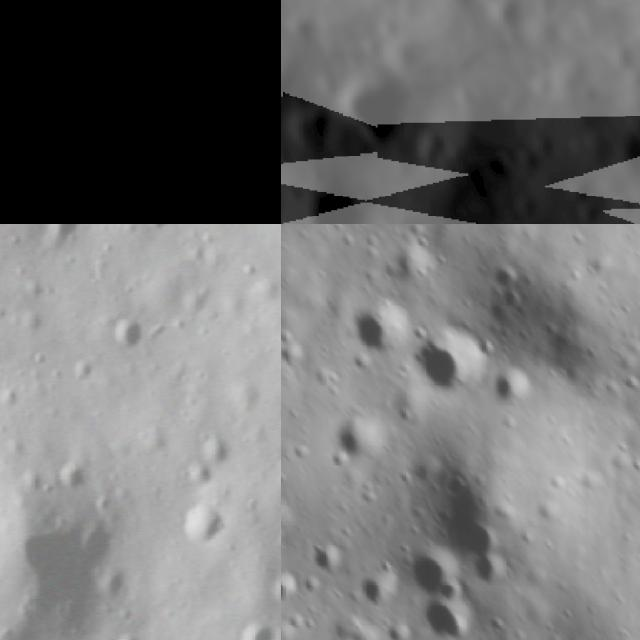crater: (0, 0, 281, 224), (0, 502, 146, 640), (424, 60, 550, 192), (324, 54, 430, 160), (412, 317, 483, 405), (284, 165, 378, 224), (281, 96, 344, 170), (169, 488, 233, 557), (345, 295, 414, 356), (23, 224, 97, 264), (385, 26, 436, 84), (395, 542, 453, 592), (411, 597, 477, 640), (47, 448, 98, 502), (281, 42, 310, 135), (99, 309, 152, 355), (407, 125, 454, 173), (486, 366, 536, 408), (334, 416, 376, 466), (482, 0, 533, 41), (284, 4, 329, 49), (521, 63, 565, 104), (505, 186, 547, 224), (232, 608, 281, 640), (602, 36, 640, 76), (197, 429, 234, 470), (308, 541, 345, 578), (389, 0, 434, 28), (184, 455, 216, 487), (570, 196, 604, 224), (269, 494, 281, 567), (69, 351, 96, 383), (281, 492, 296, 547), (0, 381, 26, 410), (623, 107, 640, 151), (108, 625, 150, 640), (281, 566, 297, 604), (134, 224, 175, 236)
